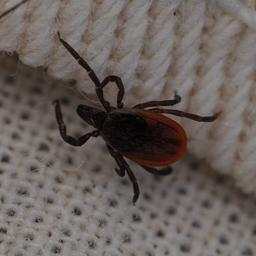Ixodes scapularis: (53, 33, 220, 204)
